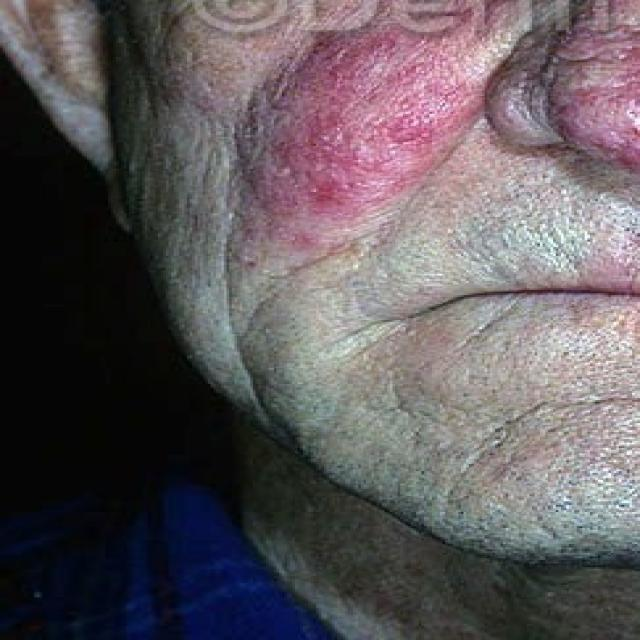Rosacea: (227, 33, 479, 266), (557, 20, 640, 163)
